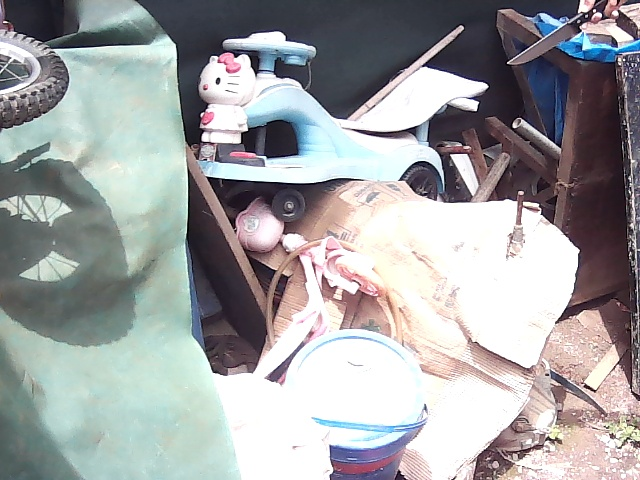cuchillo: (502, 6, 597, 71)
